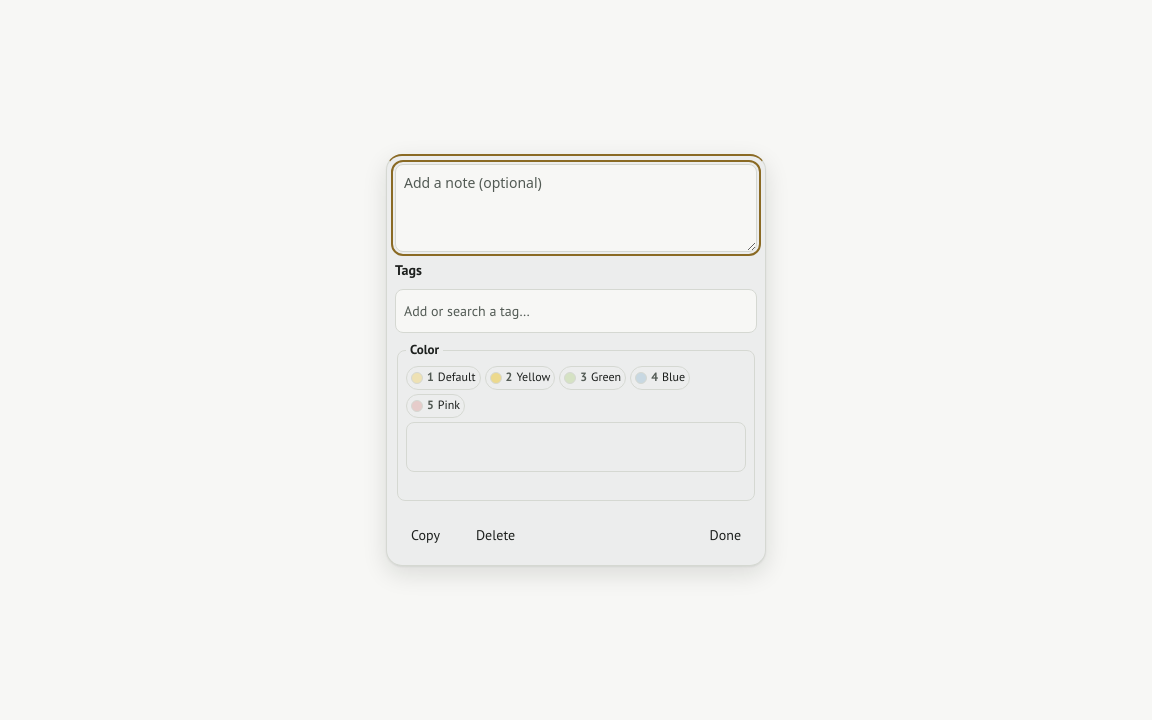
Test case: NotePopover — guarded dismissal (issue #177) › a mid-typing failure surfaces the error + Retry; a successful Retry keeps the editor open
In the text box with placeholder "Add a note (optional)": (576, 208) [395,164,757,252], type "still writing"
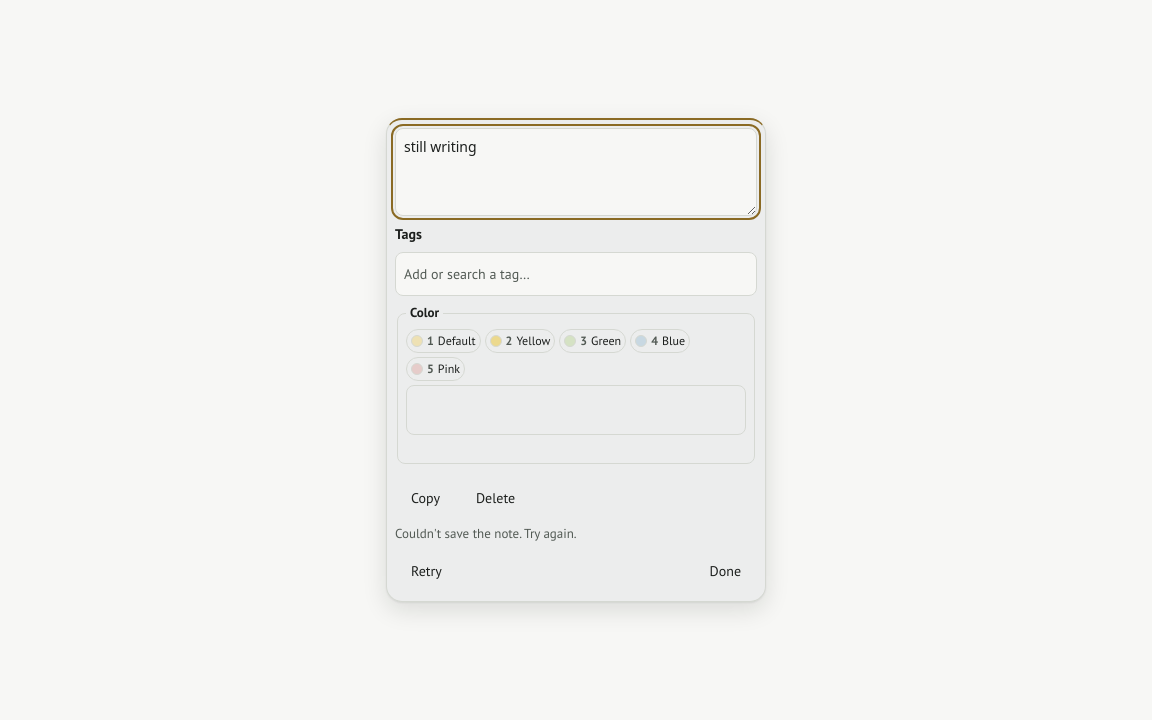
Expected: the text "Couldn't save the note. Try again." is shown, [395,525,577,542]
Click the button "Retry": (426, 571) [395,549,458,593]
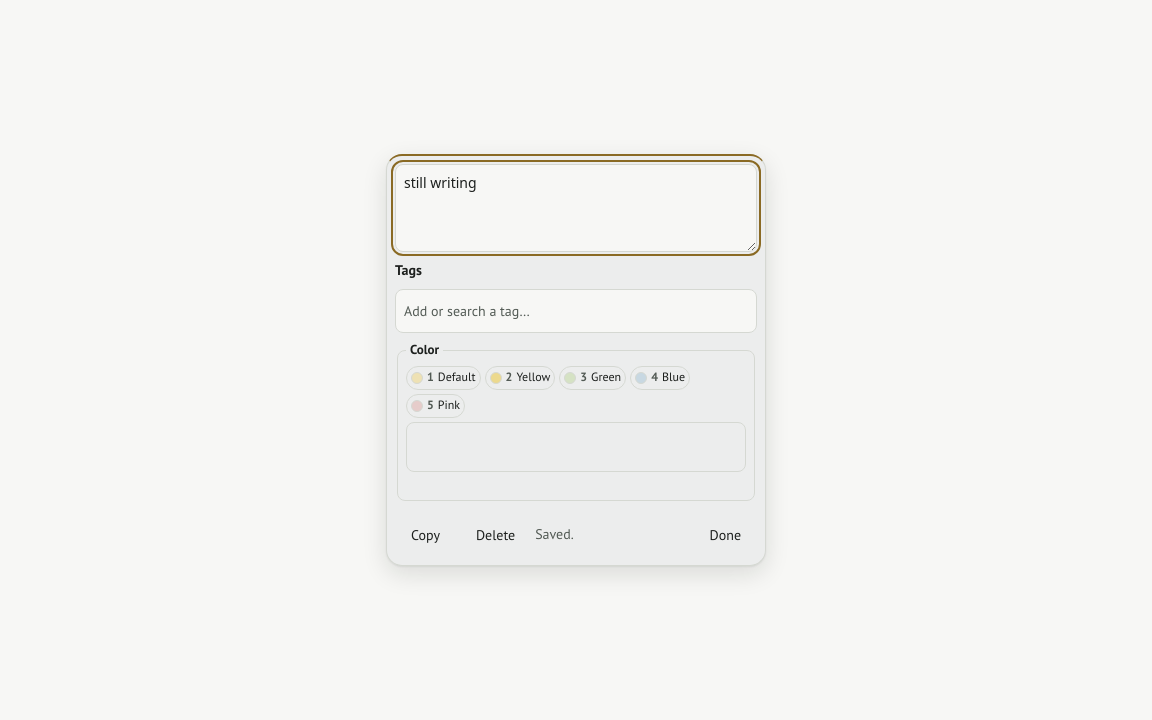
Expected: the text "Couldn't save the note. Try again." is gone
